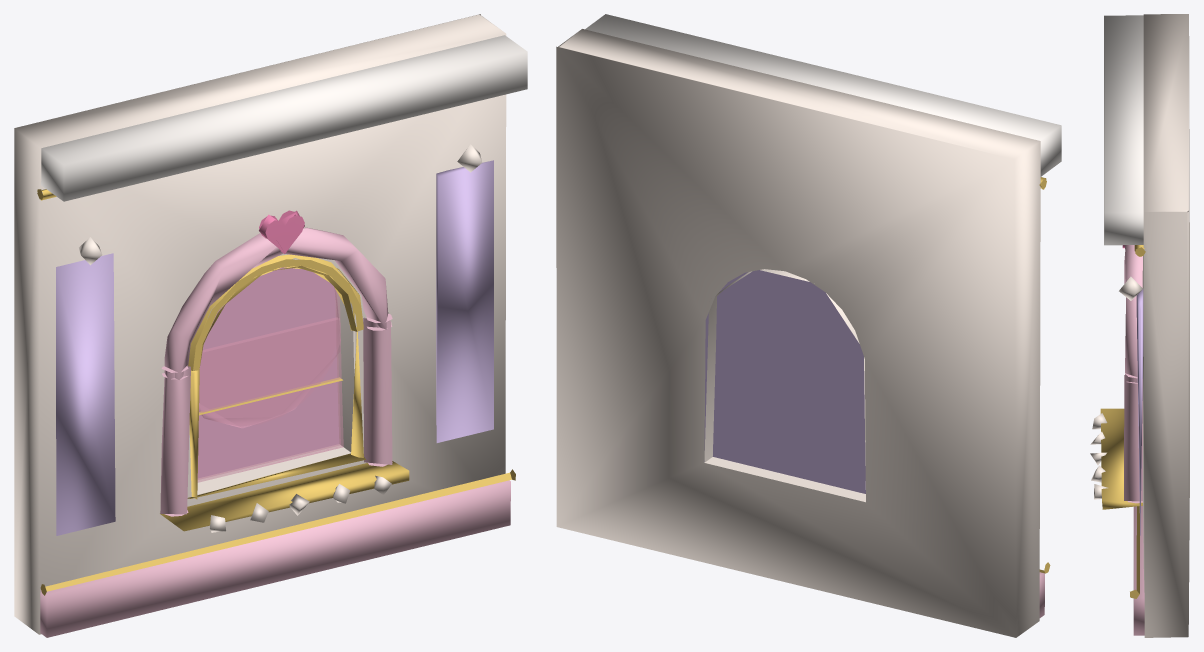
The model's file is lod_wall_window.glb.
3 views of the same model, side by side, from view 1: azimuth 30°, elevation 25°; view 2: azimuth 150°, elevation 25°; view 3: azimuth 270°, elevation 25° (orthographic). The views are drawn at different scales.
Visible parts, largest first — view 1: wall_window; view 2: wall_window; view 3: wall_window.
Part boxes in pixels (x1,y1,x2,y2): wall_window: (14,14,527,637); wall_window: (556,14,1061,637); wall_window: (1090,14,1189,637).
Size of the model in its own units: 4 by 3.99 by 0.8461.
